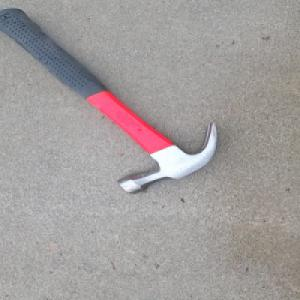Hammer: (0, 21, 222, 200)
